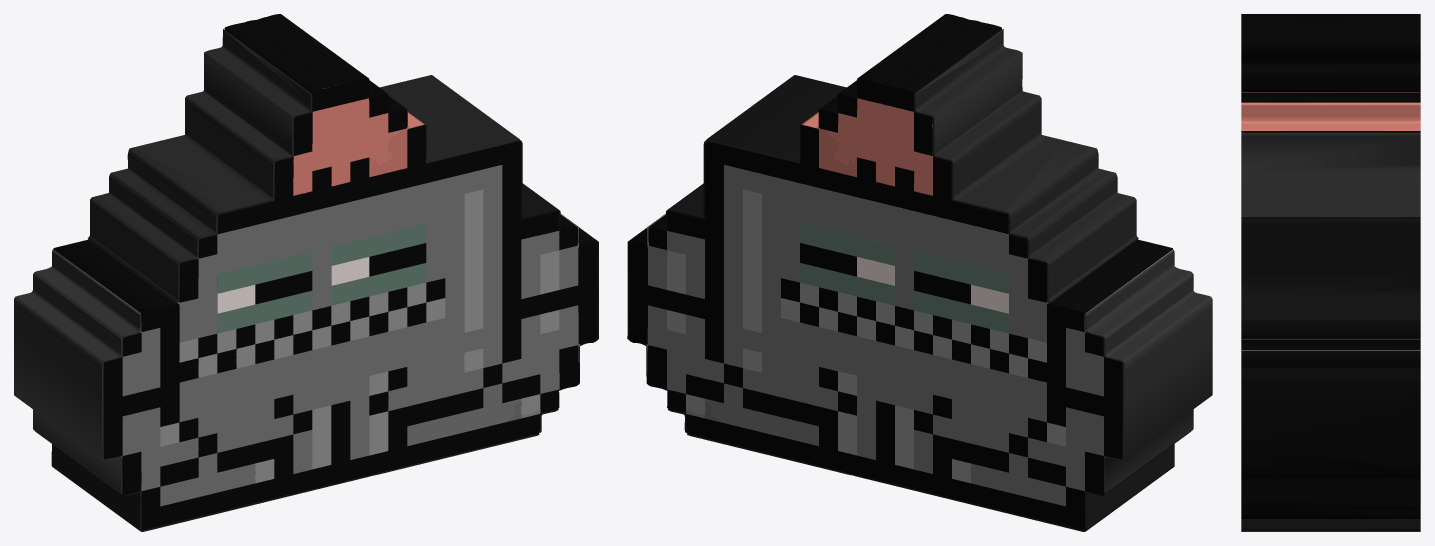
Rendered from Toadz_1650.glb.
The picture shows the model from 3 angles, left to right: view 1: azimuth 30°, elevation 25°; view 2: azimuth 150°, elevation 25°; view 3: azimuth 270°, elevation 25°; orthographic projection.
Visible parts, largest first — view 1: Curve; view 2: Curve; view 3: Curve.
Part boxes in pixels (box(x1,y1,x2,y2)): Curve: box(14, 14, 598, 531); Curve: box(627, 14, 1212, 531); Curve: box(1241, 14, 1420, 531).
Bounding box in the file's own units: 3.25 × 2.5 × 1.
